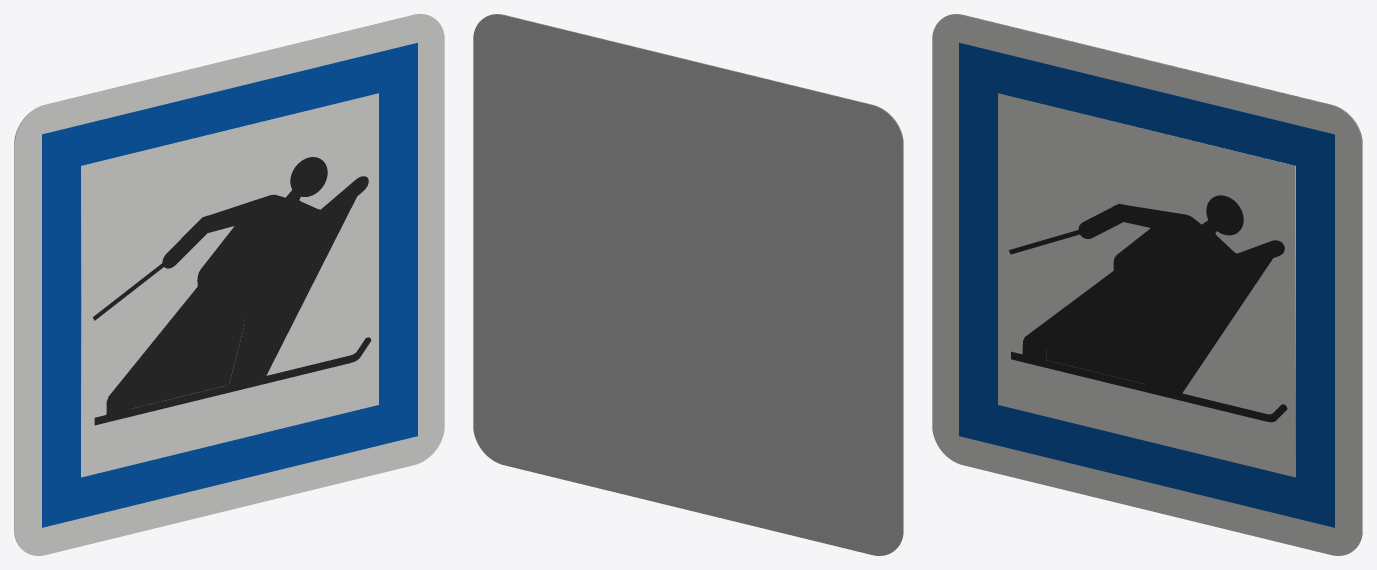
The picture shows the model from 3 angles, left to right: view 1: azimuth 30°, elevation 25°; view 2: azimuth 150°, elevation 25°; view 3: azimuth 330°, elevation 25°; orthographic projection.
Parts seen in each view (by area): view 1: CE6b_p02, CE6b_p01, CE6b_p00, CE6b_p05, CE6b_p03, CE6b_p04, CE6b_dos; view 2: CE6b_dos, CE6b_p00; view 3: CE6b_p02, CE6b_p01, CE6b_p00, CE6b_p05, CE6b_p03, CE6b_p04, CE6b_dos.
Boxes of the visible parts, <box> form: CE6b_p02: <box>81,93,378,477</box>; CE6b_p01: <box>42,42,417,527</box>; CE6b_p00: <box>14,14,444,555</box>; CE6b_p05: <box>93,157,371,425</box>; CE6b_p03: <box>130,294,244,408</box>; CE6b_p04: <box>244,205,346,378</box>; CE6b_dos: <box>14,14,431,547</box>; CE6b_dos: <box>473,14,903,555</box>; CE6b_p00: <box>486,14,903,547</box>; CE6b_p02: <box>998,93,1295,477</box>; CE6b_p01: <box>959,42,1334,527</box>; CE6b_p00: <box>932,14,1362,555</box>; CE6b_p05: <box>1009,195,1287,422</box>; CE6b_p03: <box>1046,289,1160,383</box>; CE6b_p04: <box>1160,247,1262,391</box>; CE6b_dos: <box>945,14,1362,547</box>.
Size of the model in its own units: 0.7 by 0.6999 by 0.0039.
